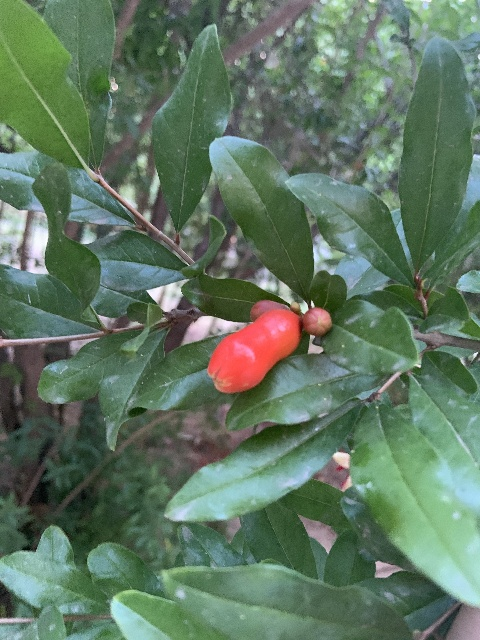bud: (207, 306, 302, 394), (302, 306, 332, 336), (249, 299, 287, 322)
